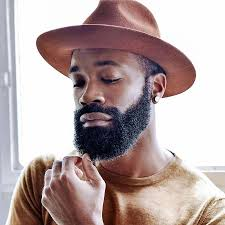s.black: (106, 82, 140, 102)
